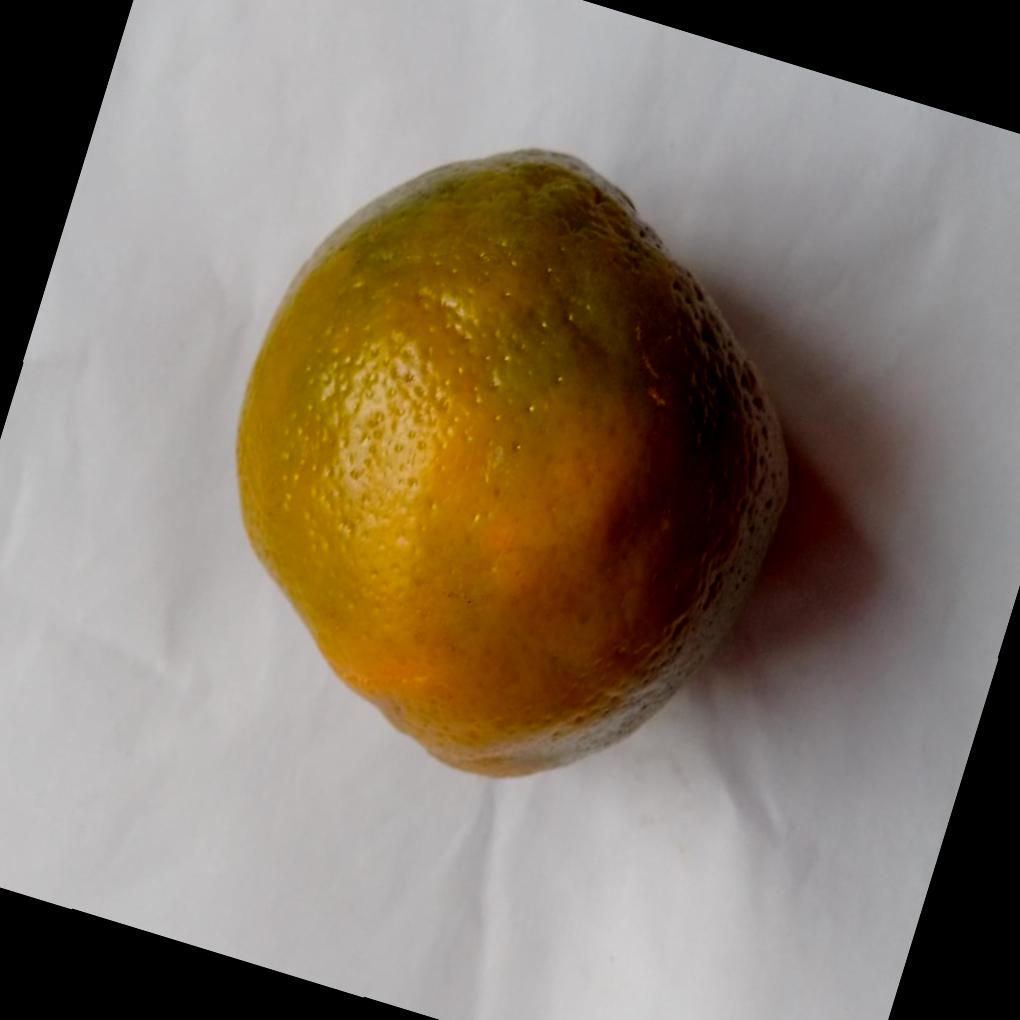FreshGuava: (236, 146, 795, 780)
